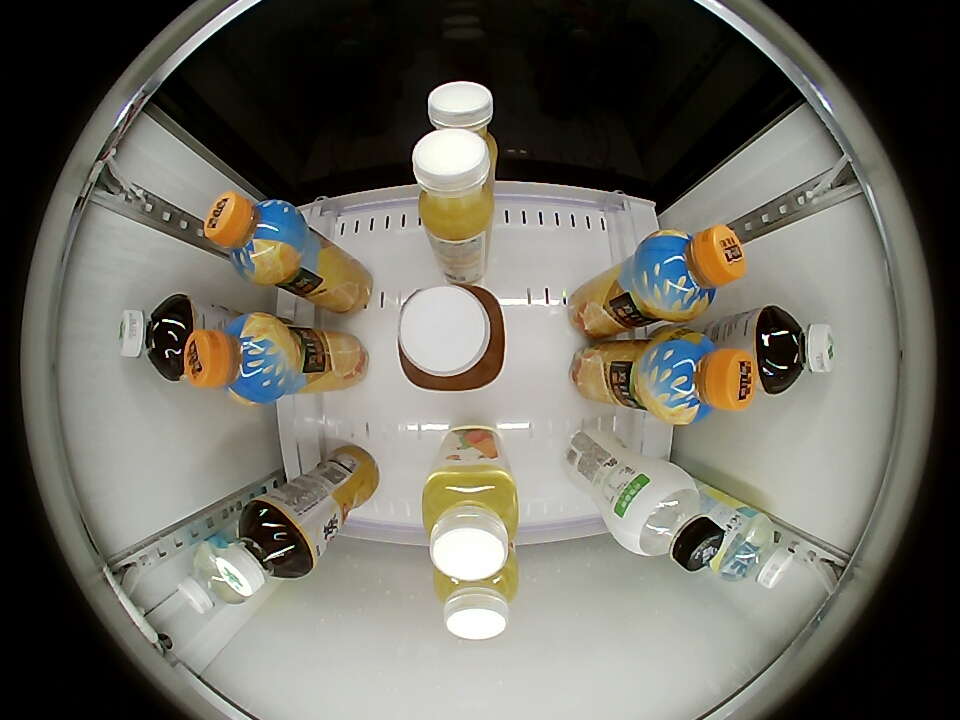chapai: (397, 283, 507, 393)
chapai2: (422, 466, 519, 582), (433, 552, 519, 640)
damaicha: (215, 500, 313, 596), (756, 306, 836, 393), (117, 295, 193, 379)
guolicheng: (641, 329, 754, 425), (637, 225, 746, 323), (185, 312, 297, 404), (203, 192, 304, 284)
nfc: (412, 128, 497, 241), (426, 81, 497, 157)
qinningshui: (714, 510, 794, 589), (178, 541, 246, 613)
yuanqishui: (611, 465, 725, 572)
